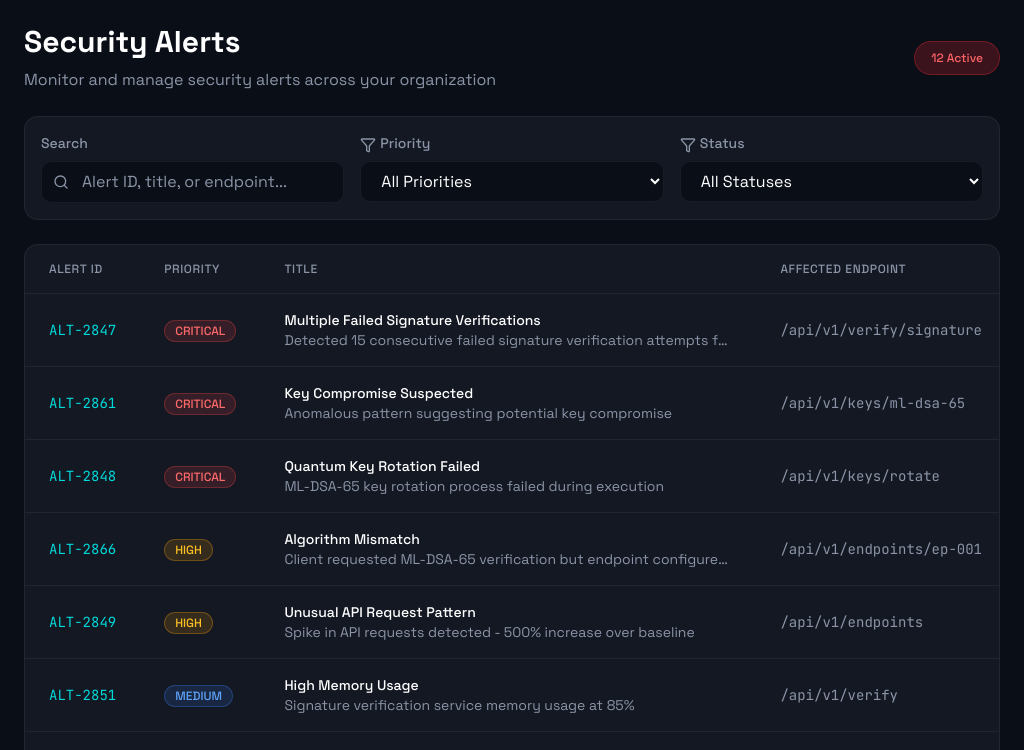
Test: AlertsSection › should display action buttons in modal for active alerts
Expected: the text "ALT-2847" is shown, [49, 321, 116, 339]
Click the text "ALT-2847" at (524, 330), box [25, 294, 1023, 366]
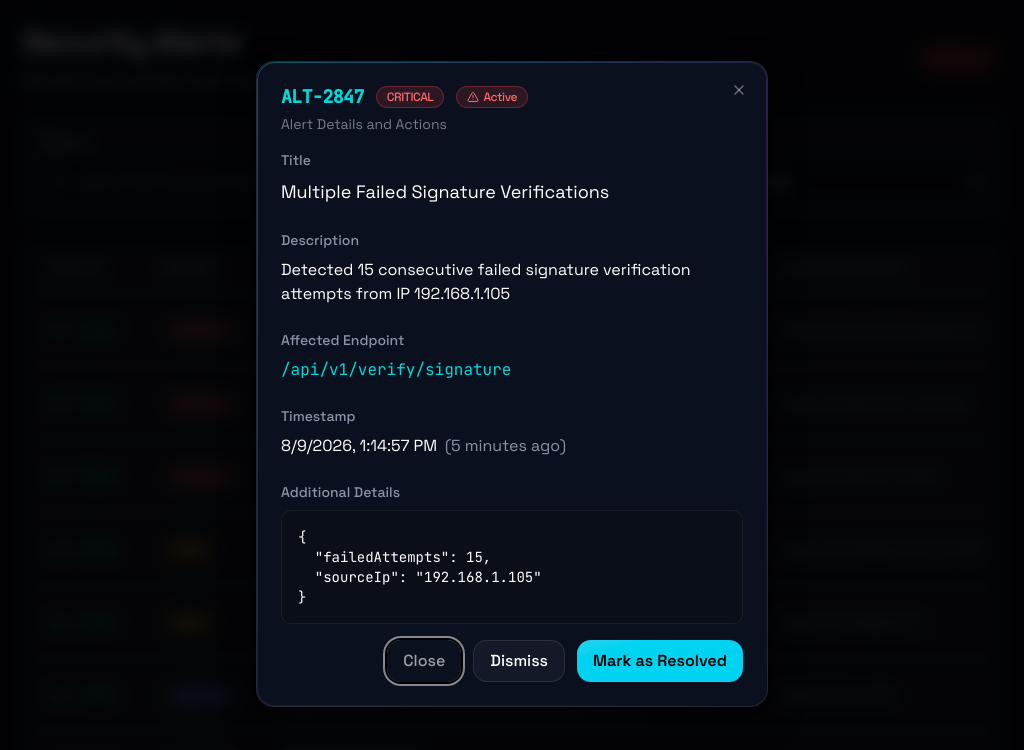
Expected: the button "Mark as Resolved" is shown, [577, 640, 743, 682]
Expected: the button "Dismiss" is shown, [473, 640, 565, 682]
